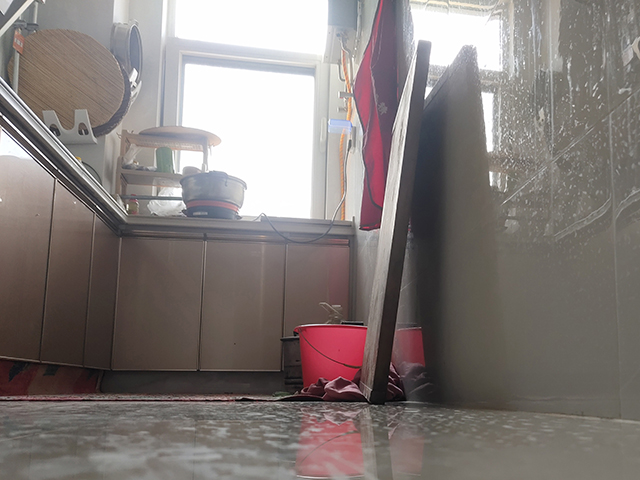cabinet: (1, 101, 126, 403), (123, 210, 282, 395)
carpet: (1, 359, 408, 402)
